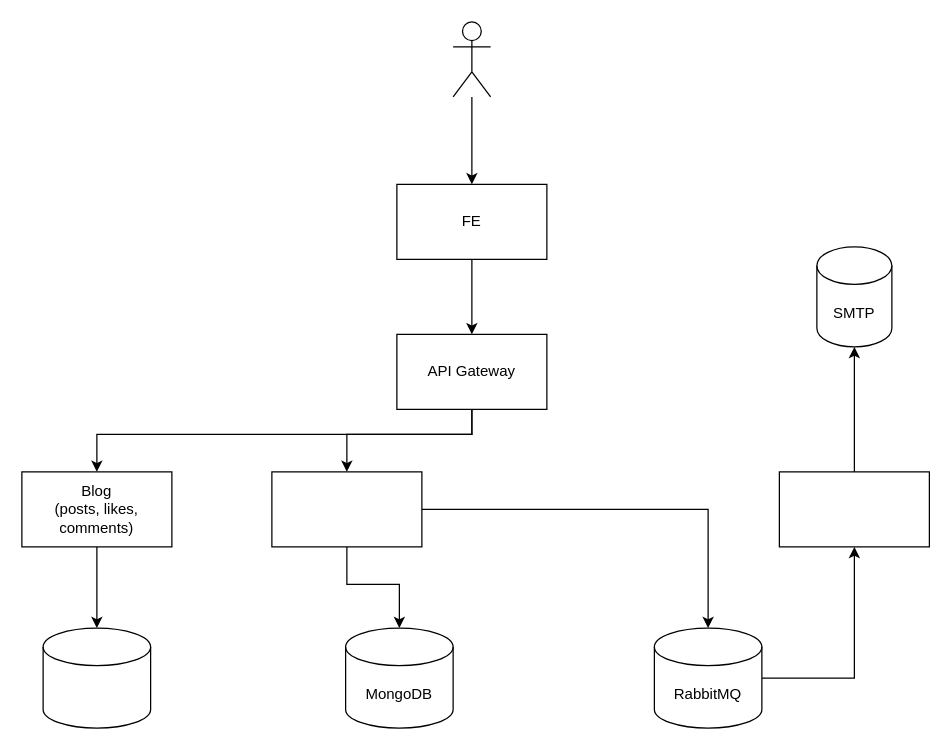
Image size: 951x750. Some labels were removed from this diagram. The shapes that lost their labels are listed below. From the top down, each one's box as (x1, y1, x2, y2) in pixels, then its label:
(271, 471, 422, 547): Account (user reg, auth)
(778, 471, 929, 547): Notify
(42, 627, 151, 728): PostgreSQL
